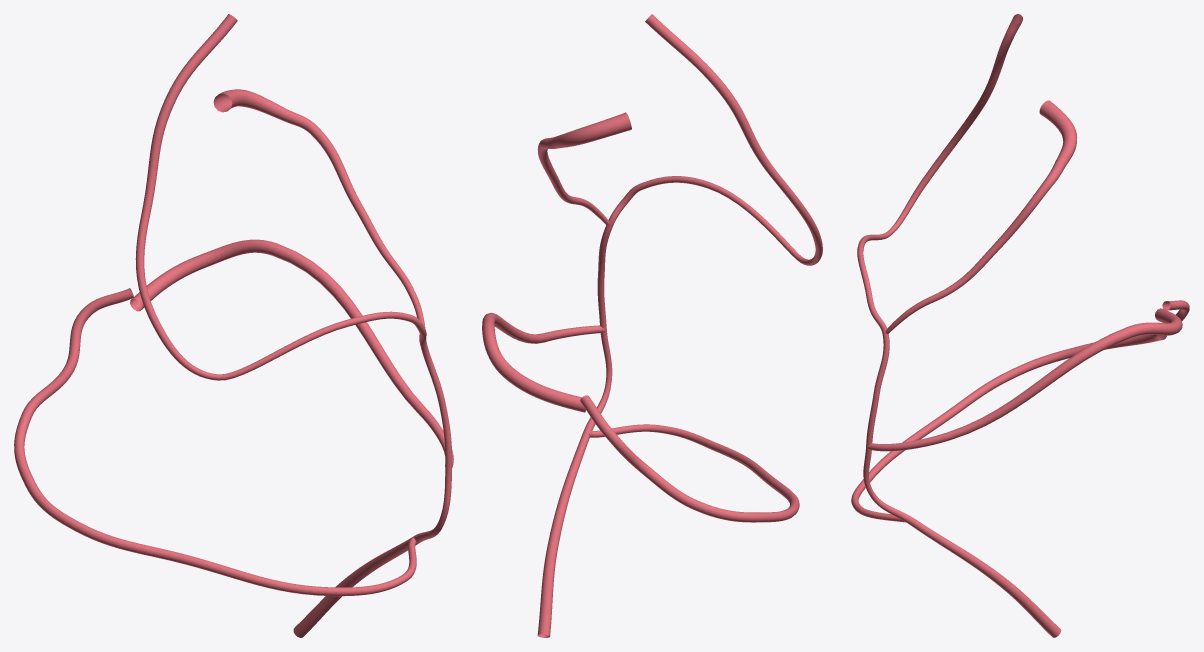
3 renders of one model, left to right at view 1: azimuth 30°, elevation 25°; view 2: azimuth 150°, elevation 25°; view 3: azimuth 270°, elevation 25°, orthographic. The views are drawn at different scales.
Parts seen in each view (by area): view 1: ZA_3d877e0935b9c69b; view 2: ZA_3d877e0935b9c69b; view 3: ZA_3d877e0935b9c69b.
Part boxes in pixels (x1,y1,x2,y2): ZA_3d877e0935b9c69b: [14, 14, 453, 637]; ZA_3d877e0935b9c69b: [482, 14, 822, 637]; ZA_3d877e0935b9c69b: [851, 14, 1189, 637].
Size of the model in its own units: 0.0847 by 0.1647 by 0.0866.
